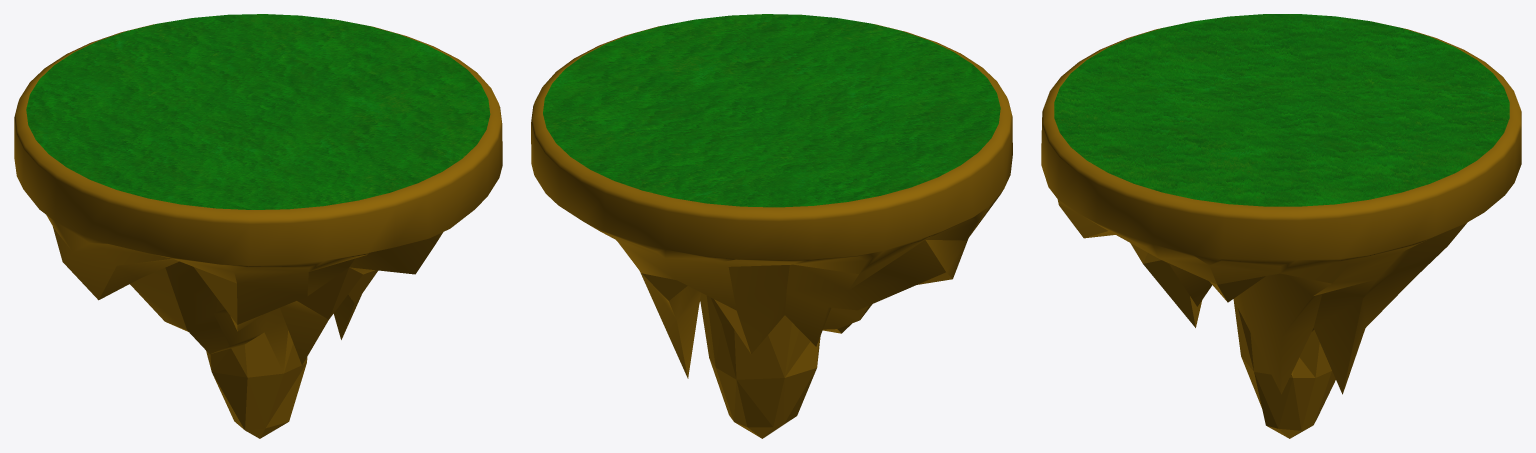
Rendered from island.fbx.
3 renders of one model, left to right at view 1: azimuth 30°, elevation 25°; view 2: azimuth 150°, elevation 25°; view 3: azimuth 270°, elevation 25°, orthographic.
Parts seen in each view (by area): view 1: polySurface47; view 2: polySurface47; view 3: polySurface47.
Part boxes in pixels (bbox=[...]): polySurface47: bbox=[14, 14, 502, 438]; polySurface47: bbox=[531, 14, 1012, 438]; polySurface47: bbox=[1041, 14, 1521, 438].
Size of the model in its own units: 80.08 by 59.91 by 80.
